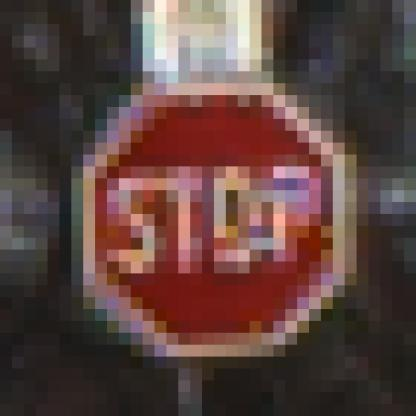Stop: (87, 88, 343, 351)
